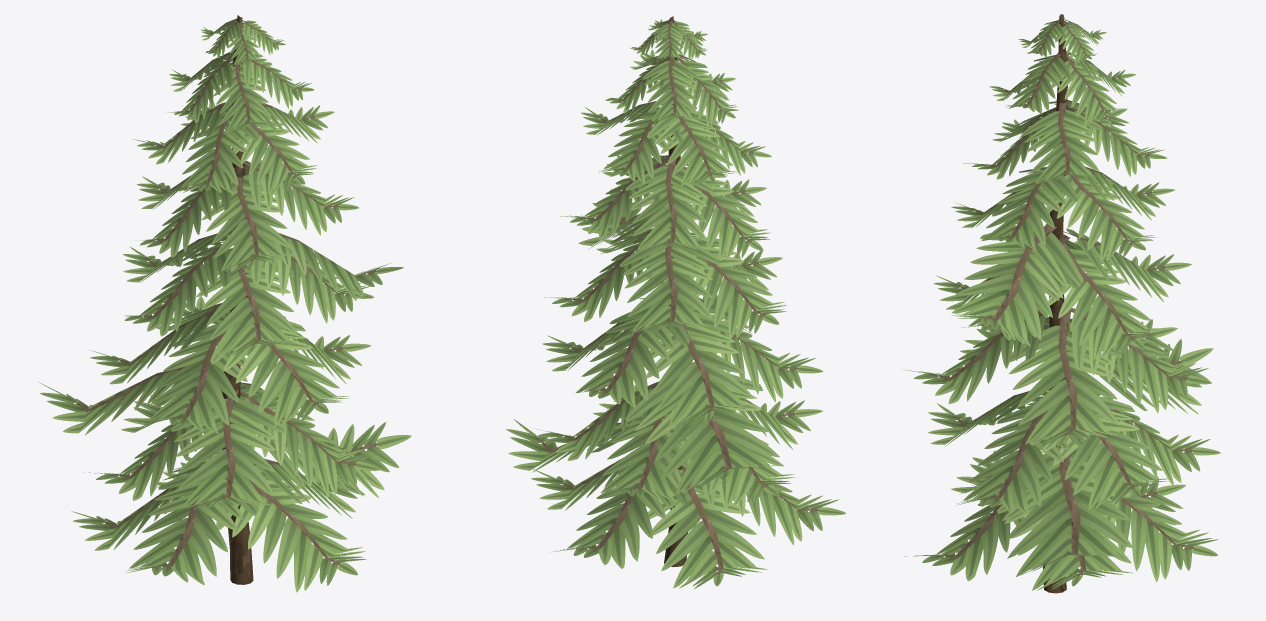
Rendered from pine_5.glb.
3 views of the same model, side by side, from view 1: azimuth 30°, elevation 25°; view 2: azimuth 150°, elevation 25°; view 3: azimuth 270°, elevation 25° (orthographic). The views are drawn at different scales.
Parts seen in each view (by area): view 1: Pine_5; view 2: Pine_5; view 3: Pine_5.
Part boxes in pixels (x1,y1,x2,y2): Pine_5: (38,15,411,592); Pine_5: (506,16,845,588); Pine_5: (902,14,1220,593).
Bounding box in the file's own units: 6.8 × 10.31 × 6.04.
Materials: 2 (2 with a texture image).
